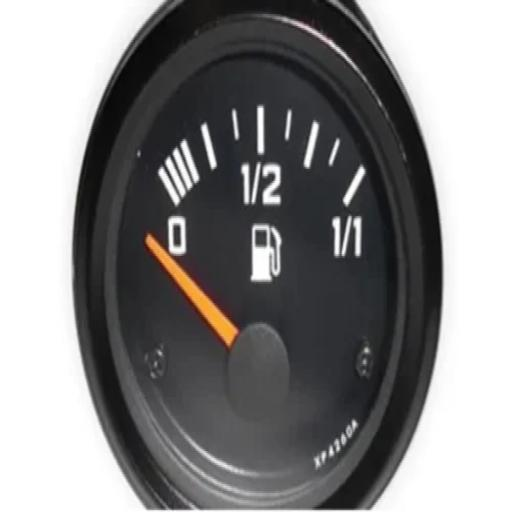empty: (167, 212, 191, 256)
fuel_icon: (248, 219, 284, 289)
full: (328, 212, 372, 270)
guage_area: (70, 0, 448, 512)
needle_center: (221, 316, 295, 434)
needle_tip: (139, 226, 164, 264)
